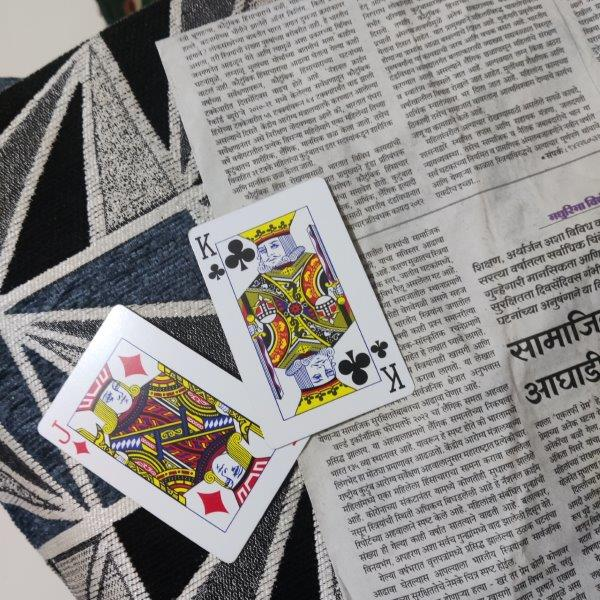Jack of Diamonds: (37, 304, 311, 565)
King of Clubs: (187, 177, 419, 450)
